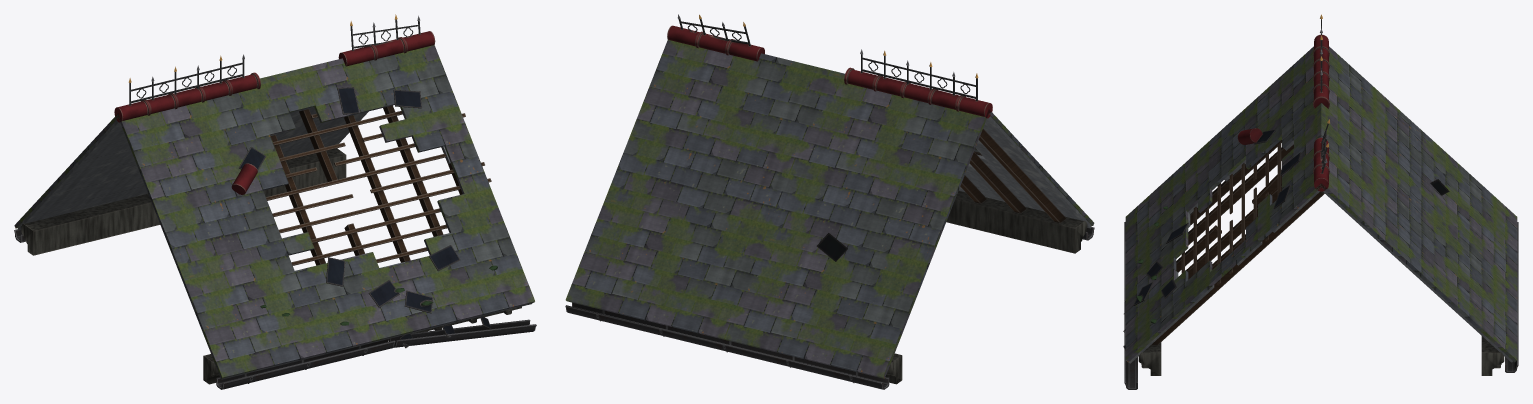
The model's file is RuinedRoof.fbx.
3 renders of one model, left to right at view 1: azimuth 30°, elevation 25°; view 2: azimuth 150°, elevation 25°; view 3: azimuth 270°, elevation 25°, orthographic. The views are drawn at different scales.
Visible parts, largest first — view 1: RuinedRoof_Moss, RuinedRoof_Main, RuinedRoof_Lead; view 2: RuinedRoof_Moss, RuinedRoof_Main, RuinedRoof_Lead; view 3: RuinedRoof_Moss, RuinedRoof_Main, RuinedRoof_Lead.
Boxes of the visible parts, left/top/right/bottom form: RuinedRoof_Moss: left=14, top=45, right=534, bottom=378; RuinedRoof_Main: left=14, top=14, right=536, bottom=389; RuinedRoof_Lead: left=17, top=107, right=532, bottom=379; RuinedRoof_Moss: left=565, top=40, right=1094, bottom=378; RuinedRoof_Main: left=565, top=14, right=1094, bottom=389; RuinedRoof_Lead: left=888, top=116, right=1091, bottom=369; RuinedRoof_Moss: left=1125, top=46, right=1517, bottom=362; RuinedRoof_Main: left=1123, top=14, right=1518, bottom=389; RuinedRoof_Lead: left=1128, top=140, right=1512, bottom=363.
Size of the model in its own units: 1220 by 926 by 1395.
